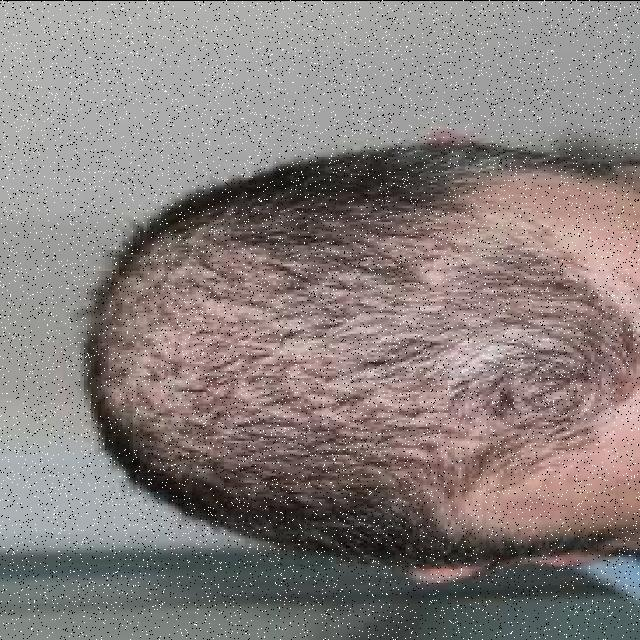Non_Helmet: (41, 107, 618, 603)
